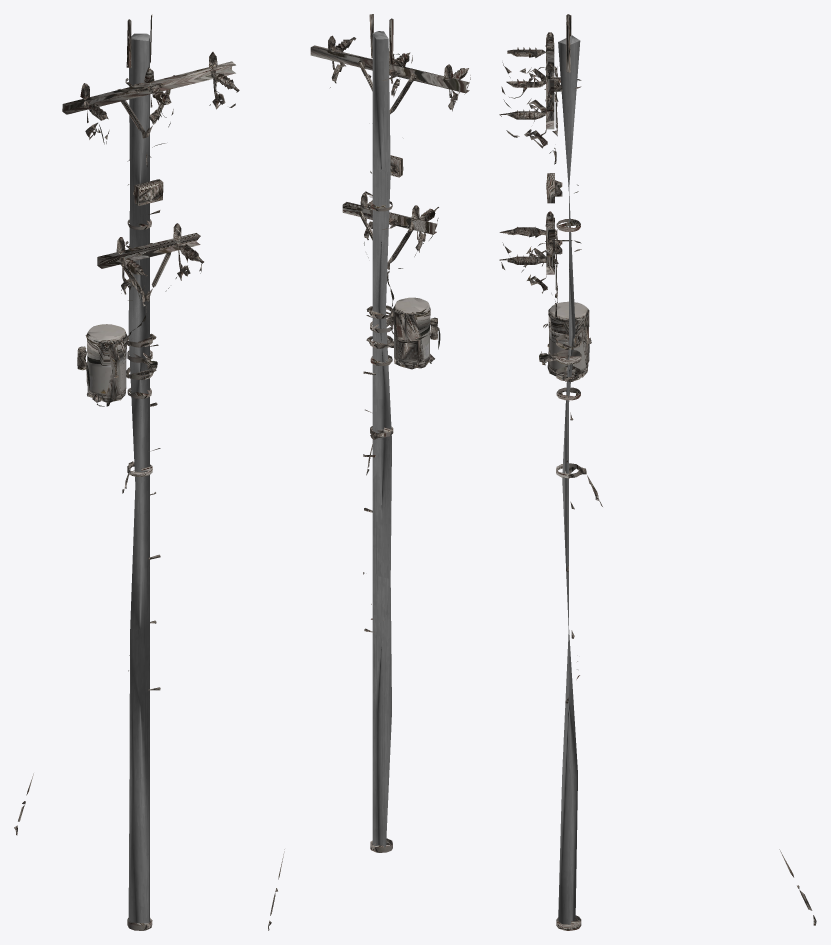
The model's file is poste_b.glb.
The picture shows the model from 3 angles, left to right: view 1: azimuth 30°, elevation 25°; view 2: azimuth 150°, elevation 25°; view 3: azimuth 270°, elevation 25°; orthographic projection. The views are drawn at different scales.
Parts seen in each view (by area): view 1: cerca, lejos; view 2: cerca, lejos; view 3: cerca, lejos.
Boxes of the visible parts, x1,y1,x2,y2 form: cerca: (14,14,239,930); lejos: (87,73,232,924); cerca: (268,14,470,930); lejos: (330,42,464,847); cerca: (499,14,816,930); lejos: (513,53,588,924).
Size of the model in its own units: 1.2 by 6.13 by 1.95.
Materials: 2 (2 with a texture image).
